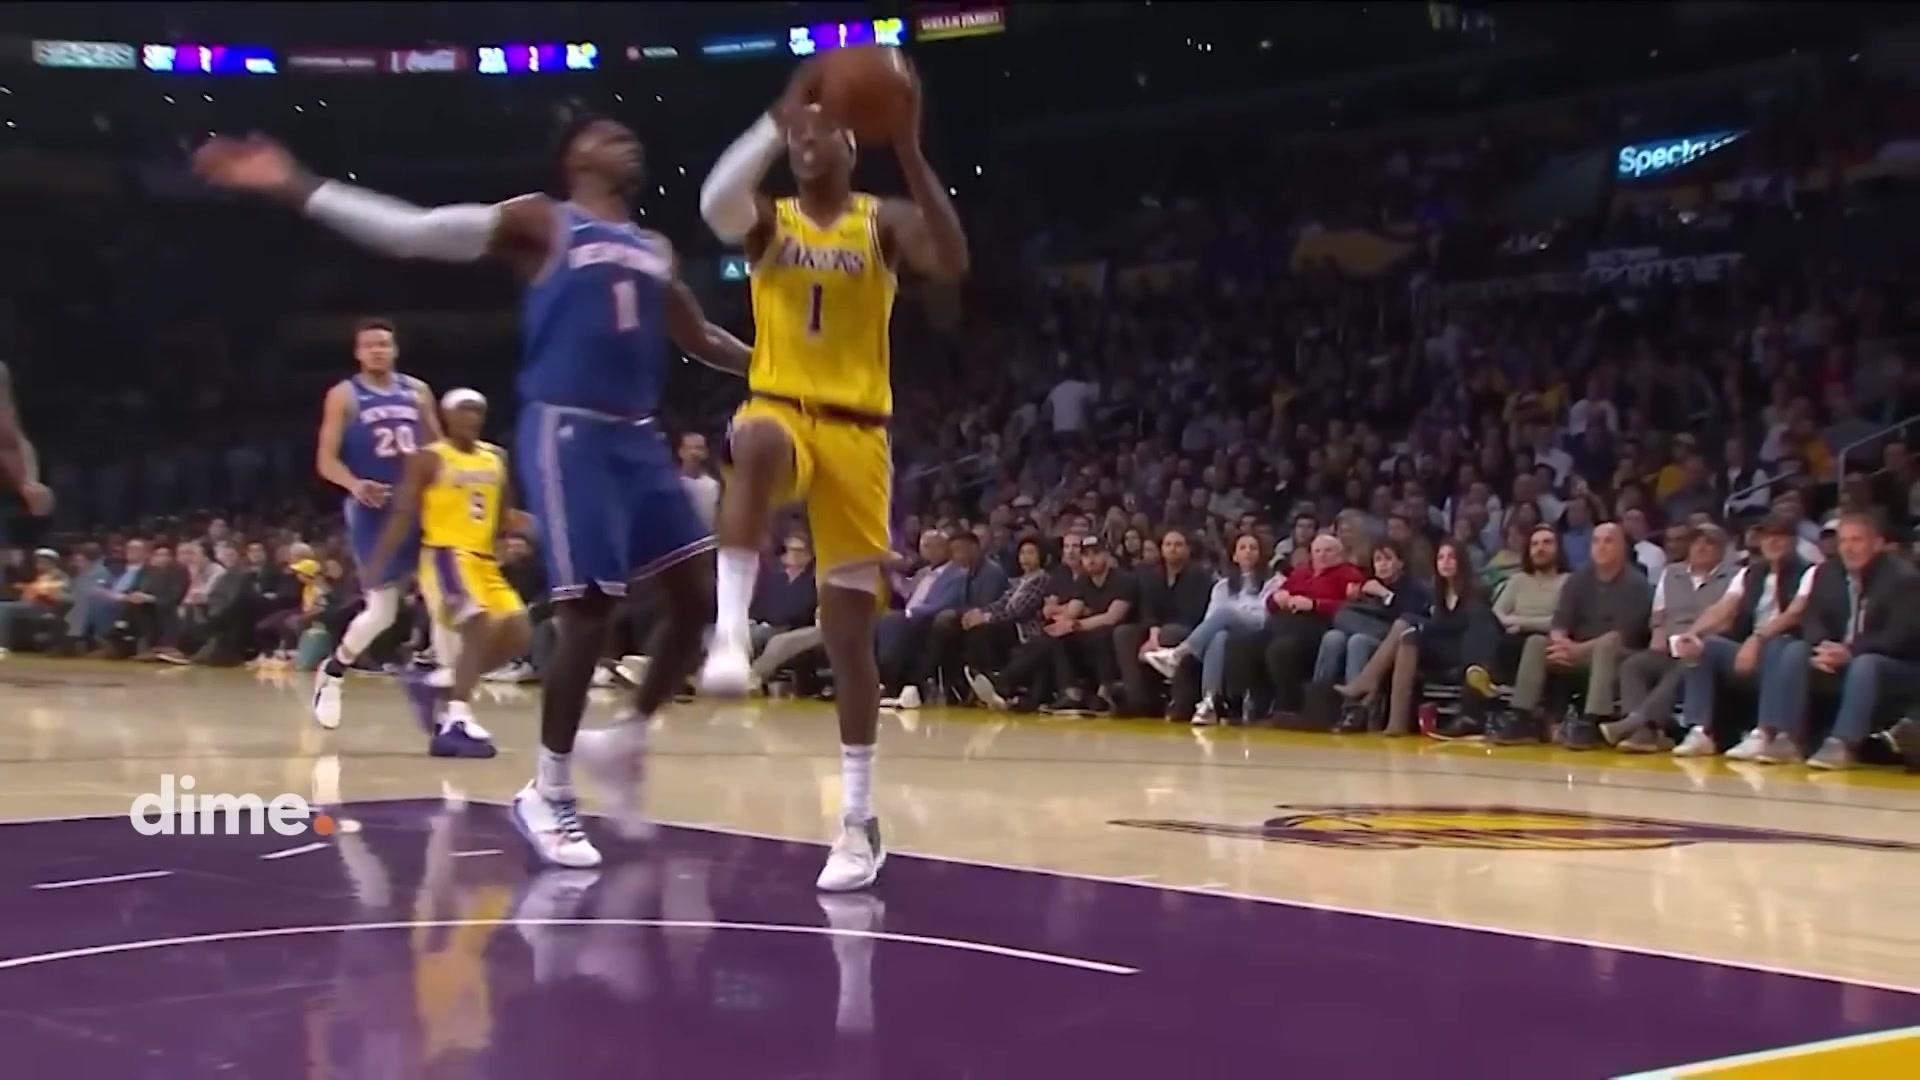no_foul: (390, 59, 918, 897)
